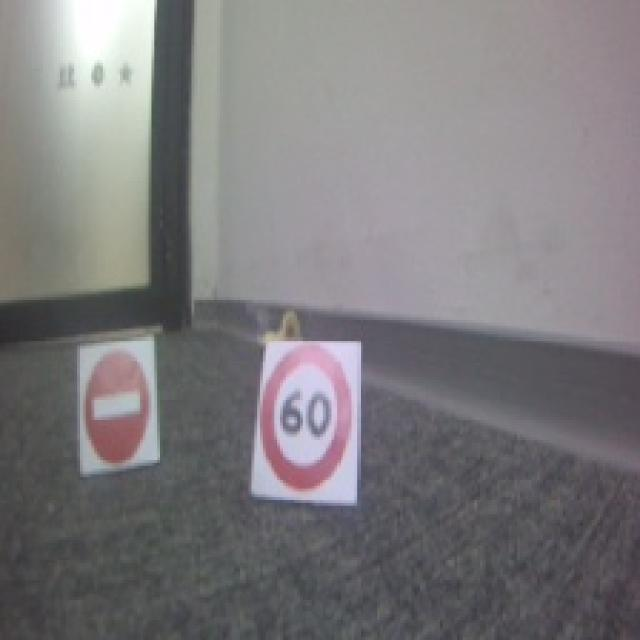DoNotEnterSign: (84, 346, 151, 467)
